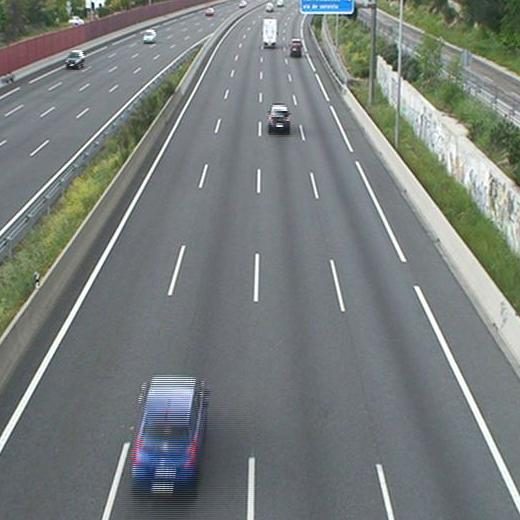car: (131, 376, 208, 497), (266, 104, 291, 136)
small-truck: (261, 17, 279, 48)
van: (290, 38, 302, 58)
